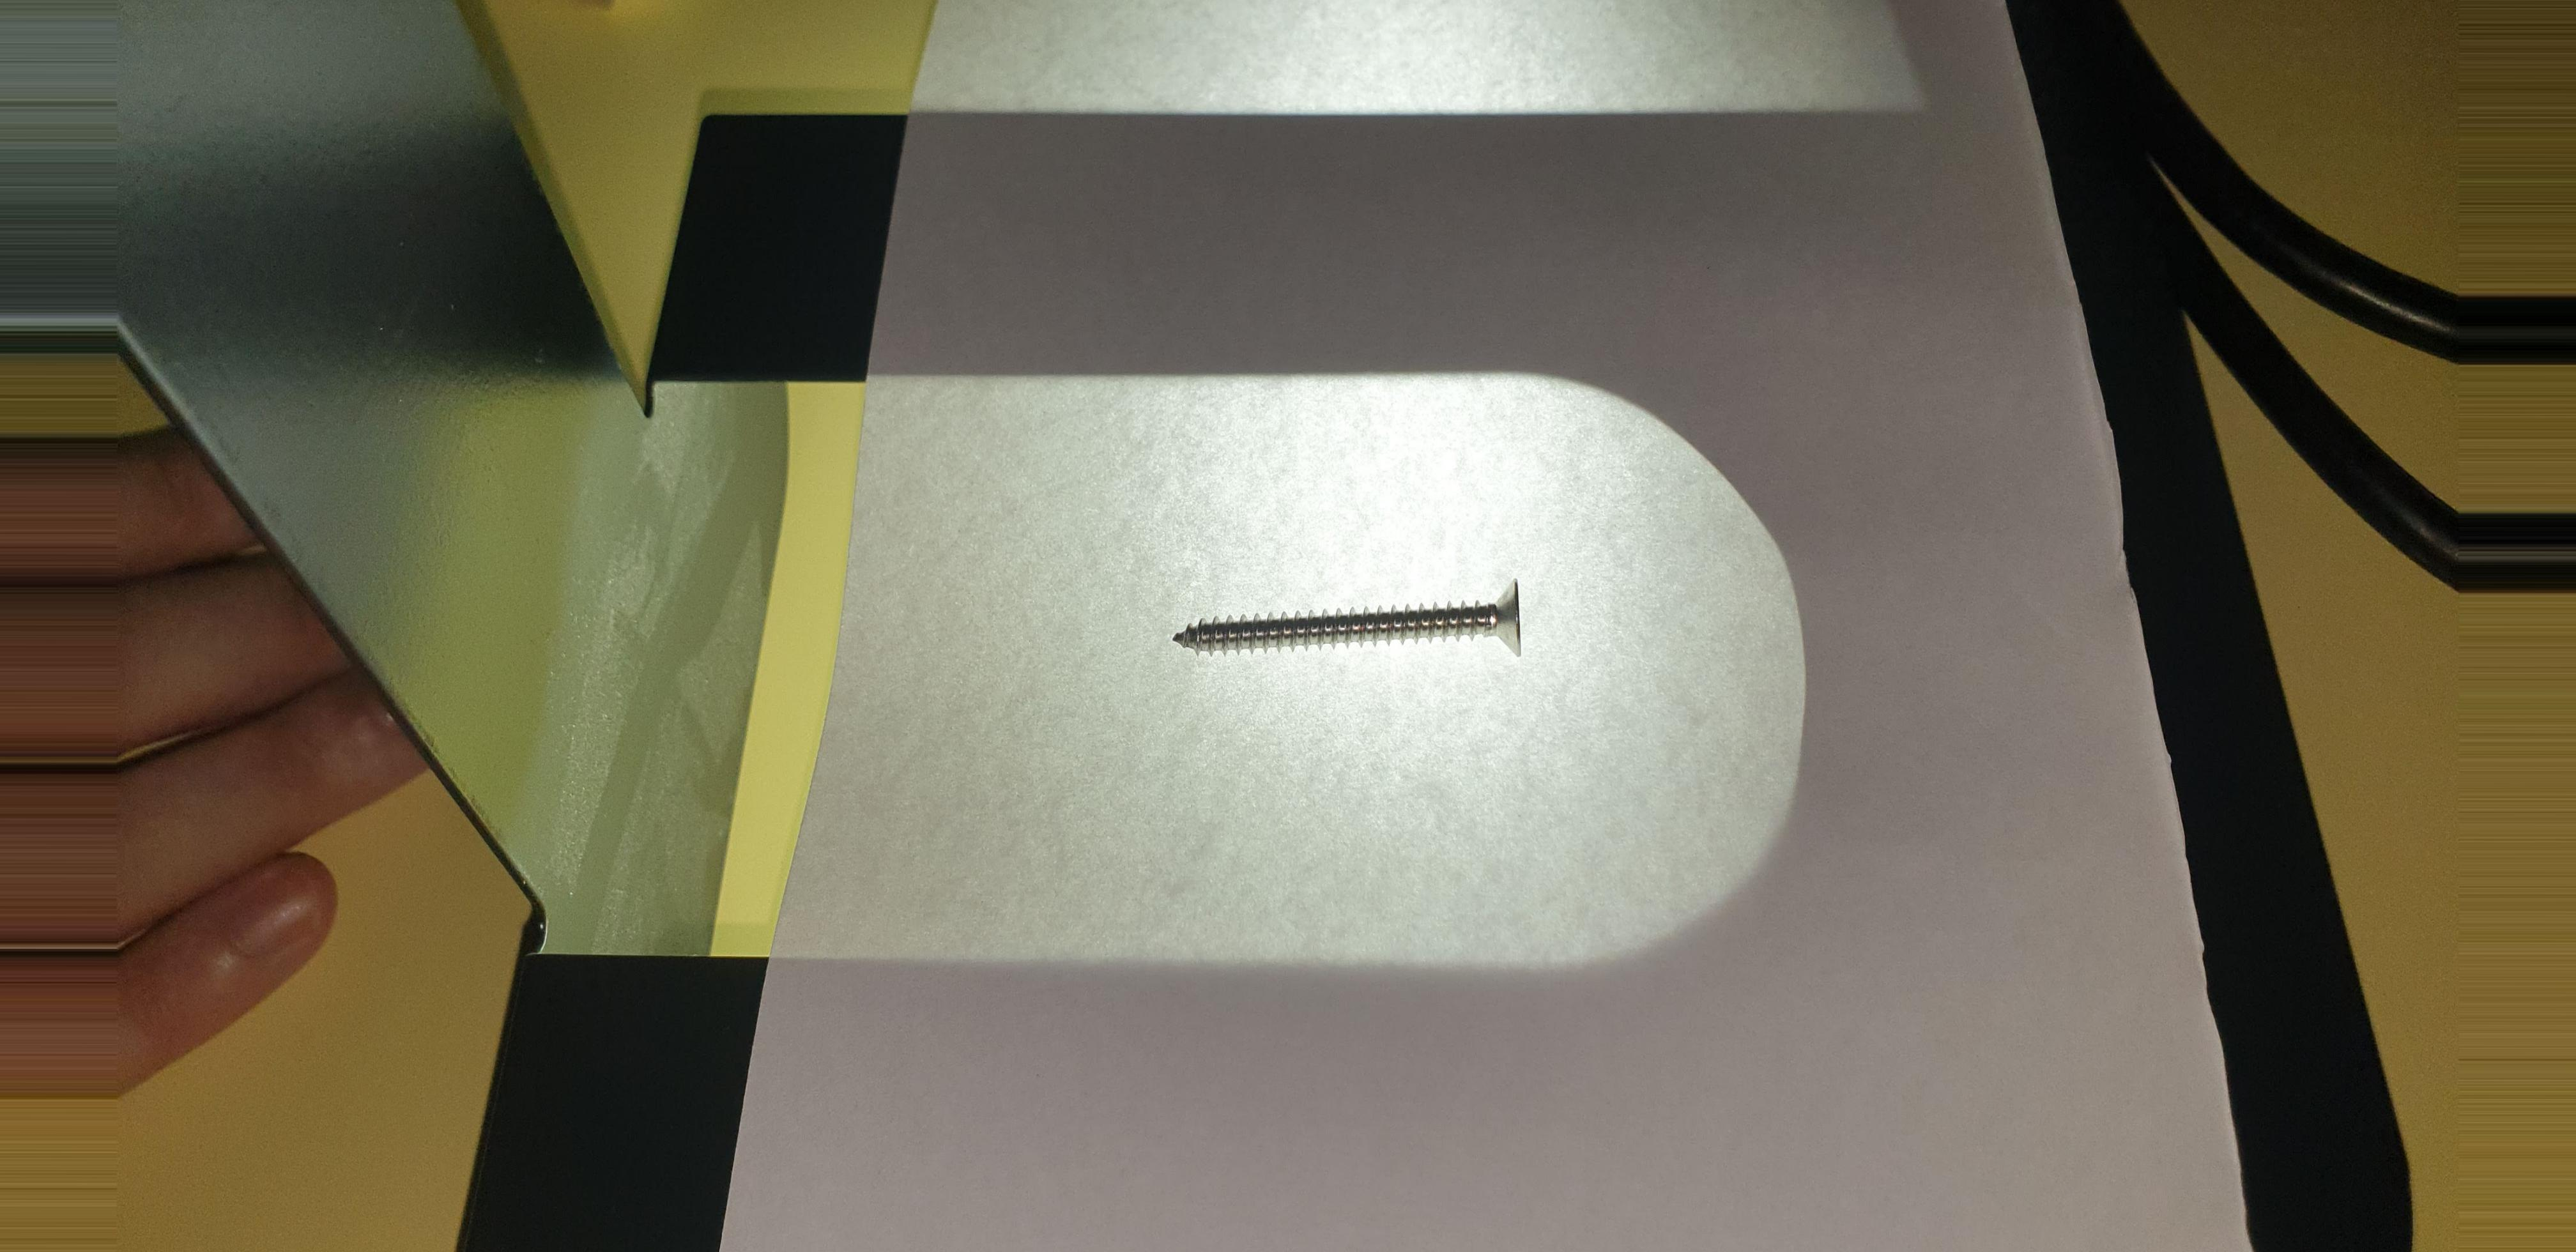fastener: (1142, 570, 1574, 669)
